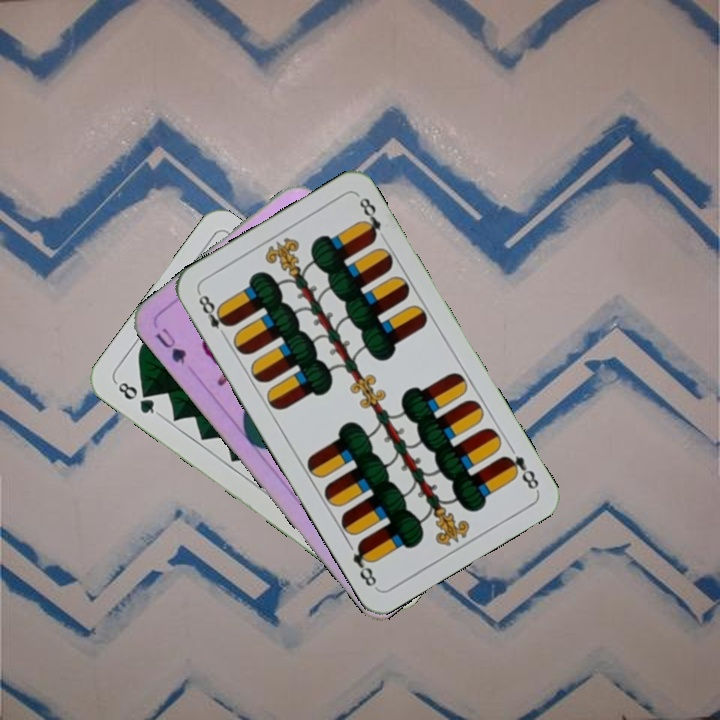E8: (194, 288, 233, 342), (498, 451, 542, 493)
G8: (111, 377, 163, 418)
GU: (151, 323, 189, 367)
